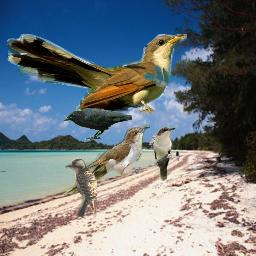Crow: (63, 108, 132, 140)
Cuckoo: (7, 34, 187, 114), (62, 125, 150, 195), (153, 127, 176, 181)
Woodpecker: (65, 158, 97, 218)
